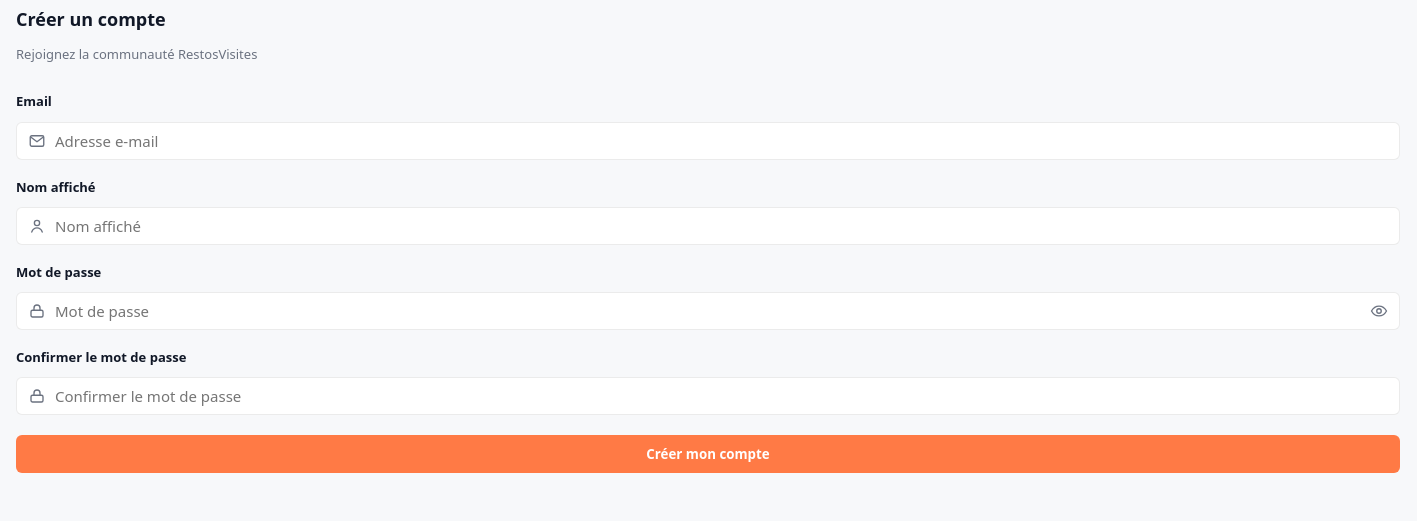
RegisterPage › affiche une erreur si le serveur refuse l'inscription (422)
In the field labelled "Email": (708, 141) x1=16 y1=122 x2=1400 y2=160, type "user@example.com"
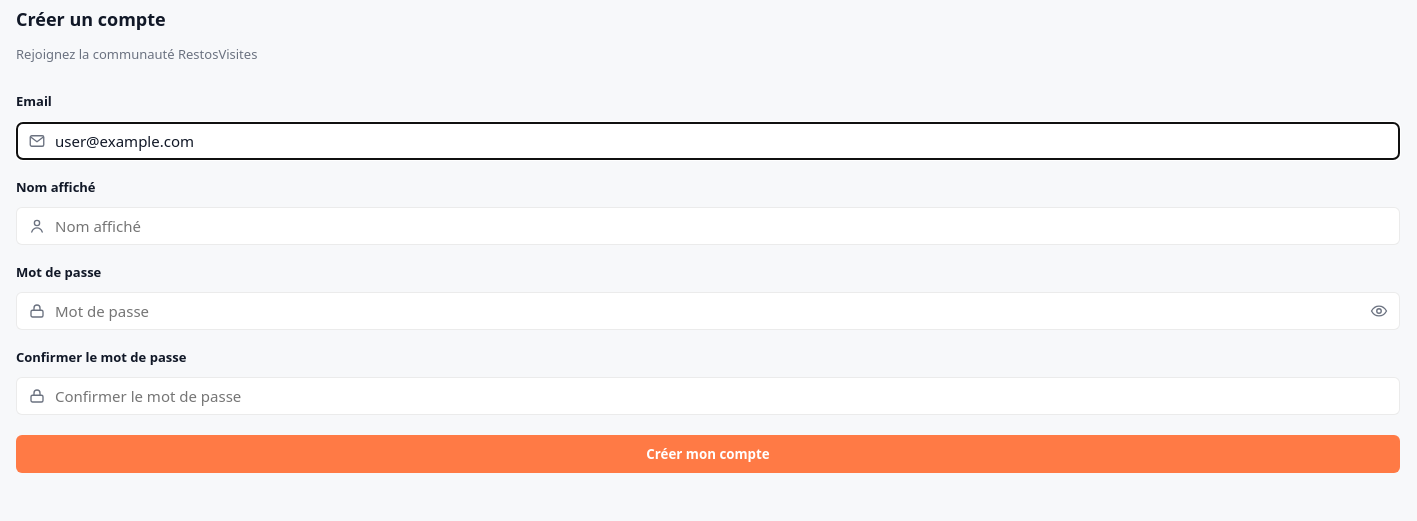
In the field labelled "Nom affiché": (708, 226) x1=16 y1=207 x2=1400 y2=245, type "Une Personne"
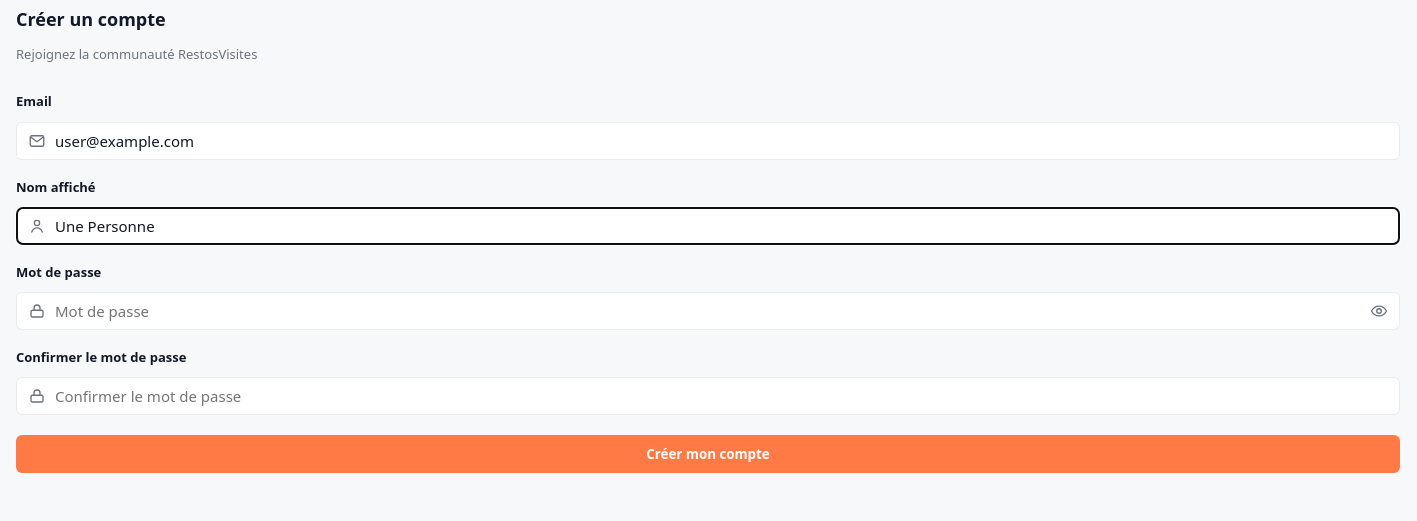
In the password field labelled "Mot de passe": (708, 311) x1=16 y1=292 x2=1400 y2=330, type "MotDePasse123!"
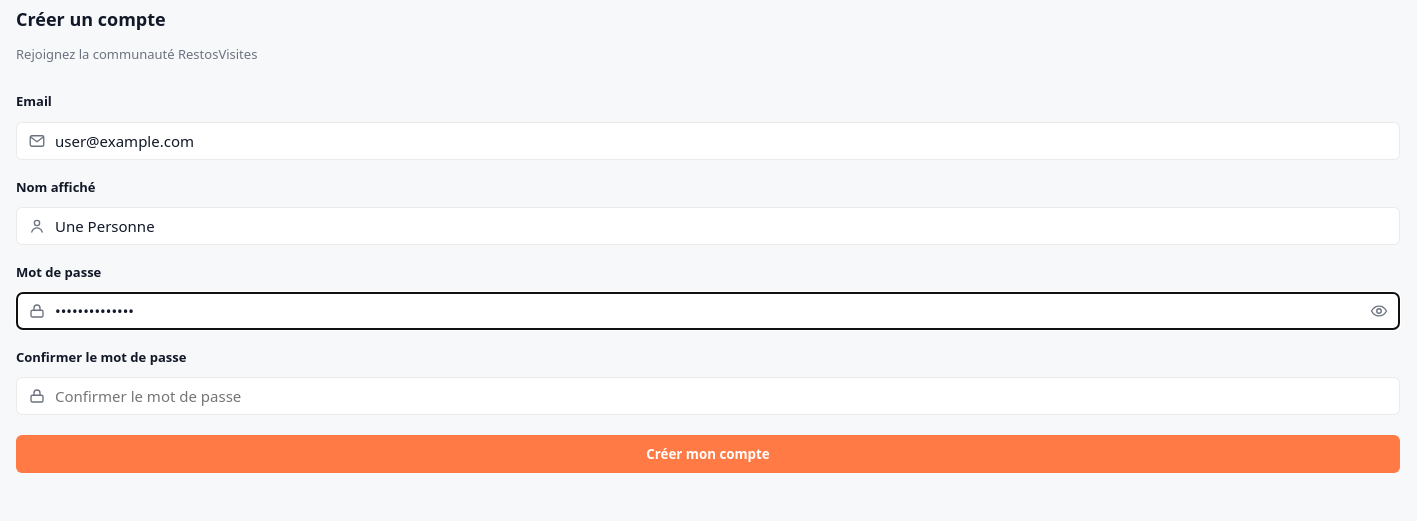
In the password field labelled "Confirmer le mot de passe": (708, 396) x1=16 y1=377 x2=1400 y2=415, type "MotDePasse123!"
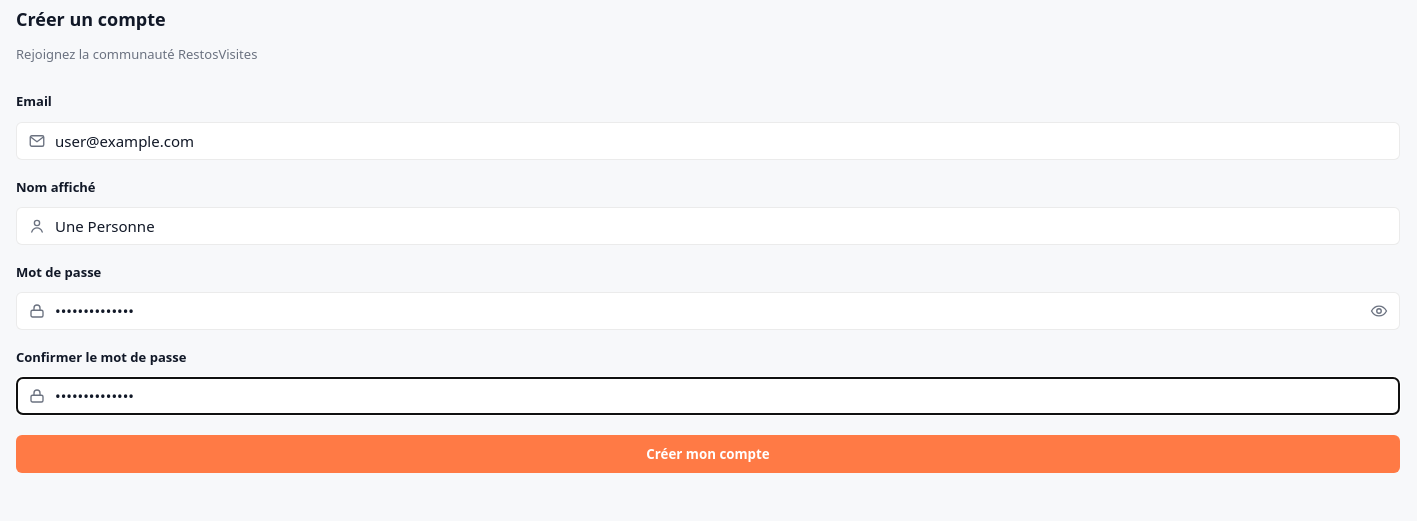
Click the button "Créer mon compte": (708, 454) x1=16 y1=435 x2=1400 y2=473
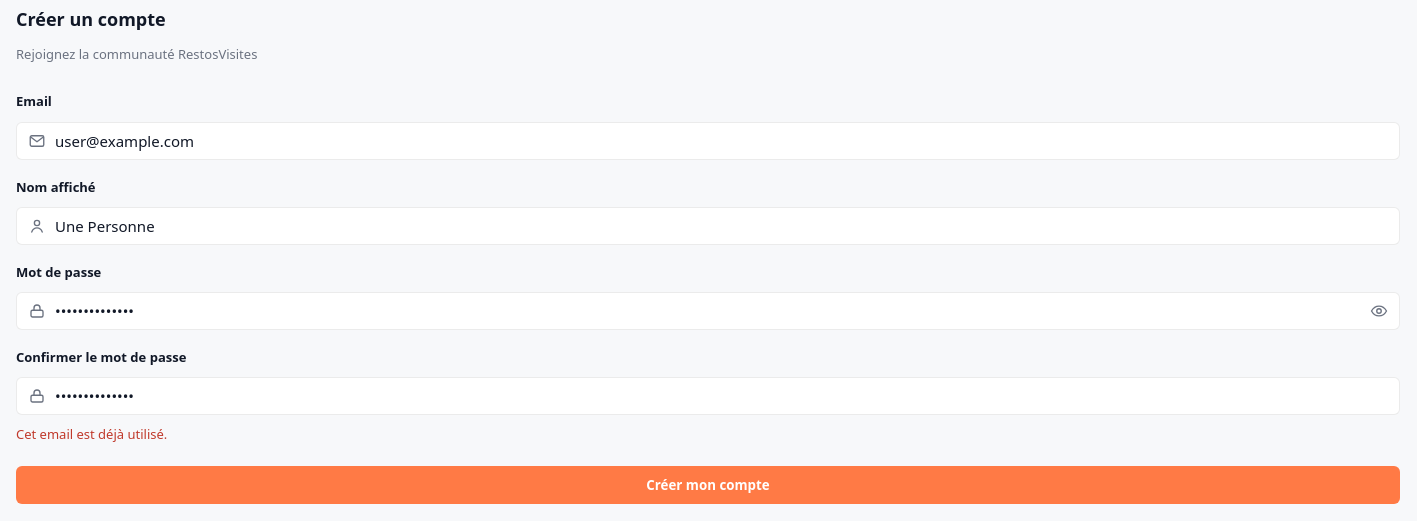
Expected: the text "Cet email est déjà utilisé." is shown, x1=16 y1=425 x2=167 y2=443
